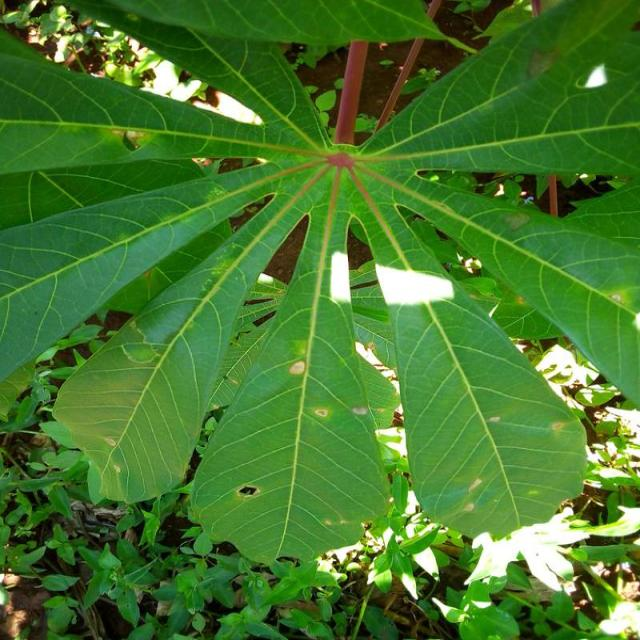cassava leaf: (2, 1, 639, 566), (376, 260, 589, 543), (188, 271, 392, 566)
